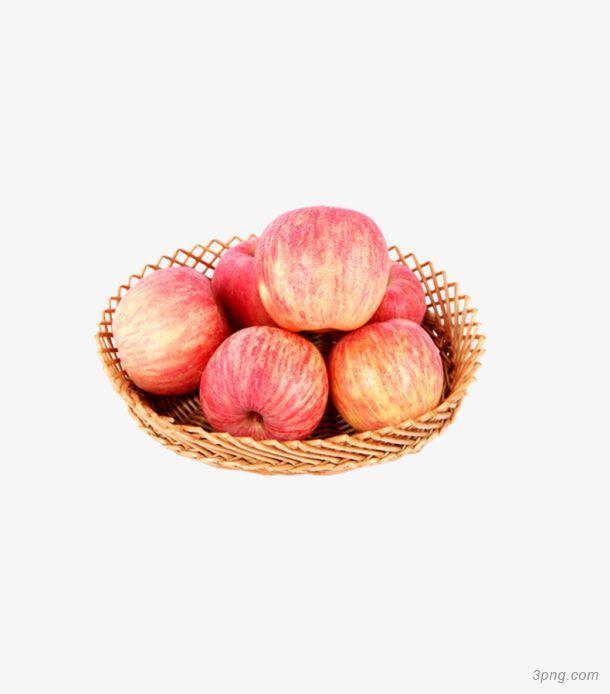apple: (254, 207, 390, 331), (201, 323, 328, 443), (114, 265, 229, 394), (329, 322, 445, 430), (215, 238, 285, 329)
